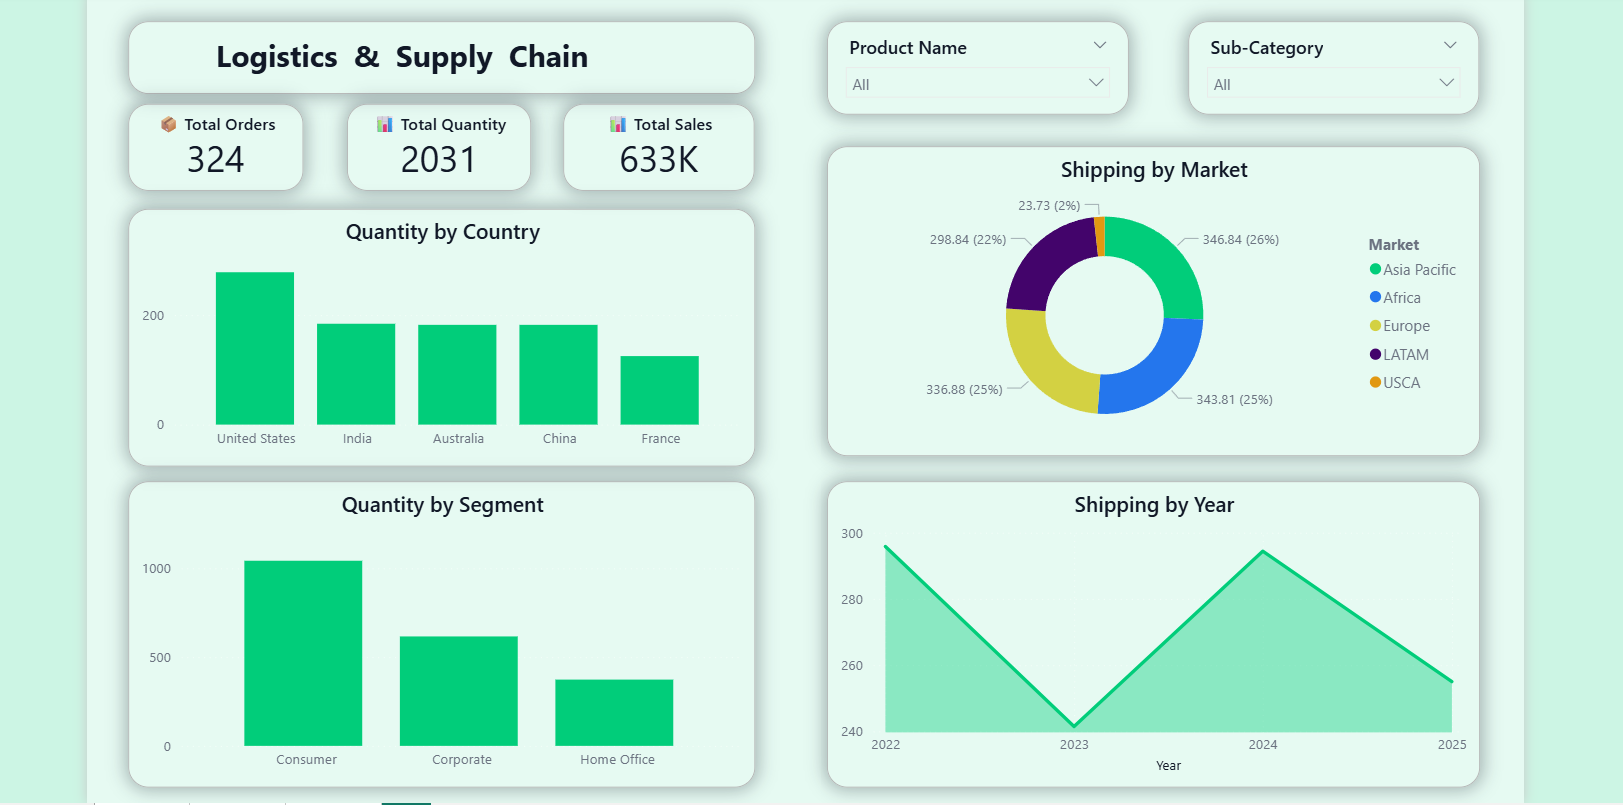

The dashboard page shown, as its layout file describes it:
{"tool":"powerbi","page":{"name":"Page 3","canvas":[1280,720],"ordinal":2},"visuals":[{"type":"textbox","box":[36.2,22.9,558.6,65.1],"z":0},{"type":"slicer","fields":{"Values":["Dim_Product.Sub-Category"]},"box":[980.8,22.9,259.4,83.2],"z":1},{"type":"slicer","fields":{"Values":["Dim_Product.Product Name"]},"box":[658.7,22.9,269,83.2],"z":2},{"type":"donutChart","title":"Shipping by Market","fields":{"Y":["All_Measures.Average Shipping"],"Category":["Dim_Geography.Market"]},"box":[658.7,135.1,581.5,276.3],"z":4},{"type":"card","title":"📊 Total Quantity","fields":{"Values":["All_Measures.Total Quantity"]},"box":[231.6,96.5,164.1,77.2],"z":6},{"type":"columnChart","title":"Quantity by Segment","fields":{"Category":["Dim_Customer.Segment"],"Y":["Sum(Fact_Sales.Quantity)"]},"box":[36.2,433.1,558.6,272.7],"z":7},{"type":"columnChart","title":"Quantity by Country","fields":{"Y":["Sum(Fact_Sales.Quantity)"],"Category":["Dim_Geography.Country"]},"box":[36.2,190.6,558.6,229.2],"z":8},{"type":"card","title":"📦 Total Orders","fields":{"Values":["All_Measures.Total Orders"]},"box":[36.2,96.5,155.6,77.2],"z":9},{"type":"areaChart","title":"Shipping by Year","fields":{"Category":["Fact_Sales.Order Date.Variation.Date Hierarchy.Year"],"Y":["All_Measures.Average Shipping"]},"box":[658.7,433.1,581.5,272.7],"z":10},{"type":"card","title":"📊 Total Sales","fields":{"Values":["Sum(Fact_Sales.Sales)"]},"box":[424.7,96.5,170.1,77.2],"z":11}]}

Visuals, with their boxes on the page's 1280x720 design canvas (x1, y1, x2, y2). These are canvas units, not pixel positions in the 1623x805 screenshot, which may show the page scaled, cropped or inside an application window:
textbox: <region>36, 23, 595, 88</region>
slicer - Dim_Product.Sub-Category: <region>981, 23, 1240, 106</region>
slicer - Dim_Product.Product Name: <region>659, 23, 928, 106</region>
"Shipping by Market" donutChart: <region>659, 135, 1240, 411</region>
"📊 Total Quantity" card: <region>232, 96, 396, 174</region>
"Quantity by Segment" columnChart: <region>36, 433, 595, 706</region>
"Quantity by Country" columnChart: <region>36, 191, 595, 420</region>
"📦 Total Orders" card: <region>36, 96, 192, 174</region>
"Shipping by Year" areaChart: <region>659, 433, 1240, 706</region>
"📊 Total Sales" card: <region>425, 96, 595, 174</region>
